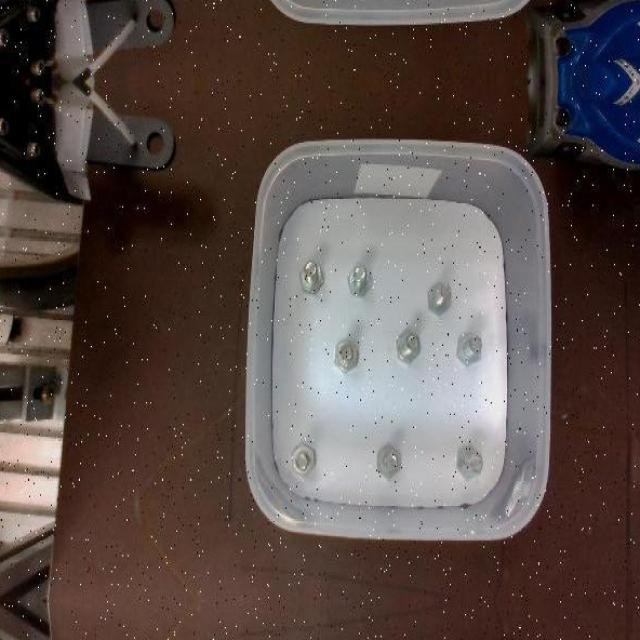screw: (376, 442, 401, 480), (456, 444, 483, 479), (332, 337, 358, 372), (346, 262, 372, 296), (457, 332, 482, 366), (292, 441, 316, 476), (300, 260, 324, 294), (427, 280, 451, 313), (396, 331, 420, 364)
